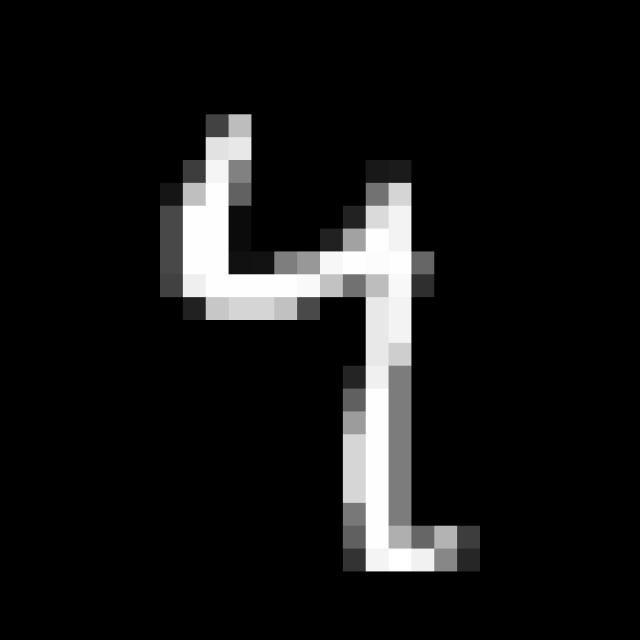four -4-: (149, 94, 493, 592)
